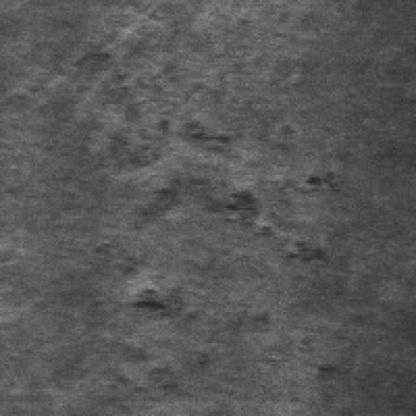rolled-in_scale: (114, 56, 274, 322)
